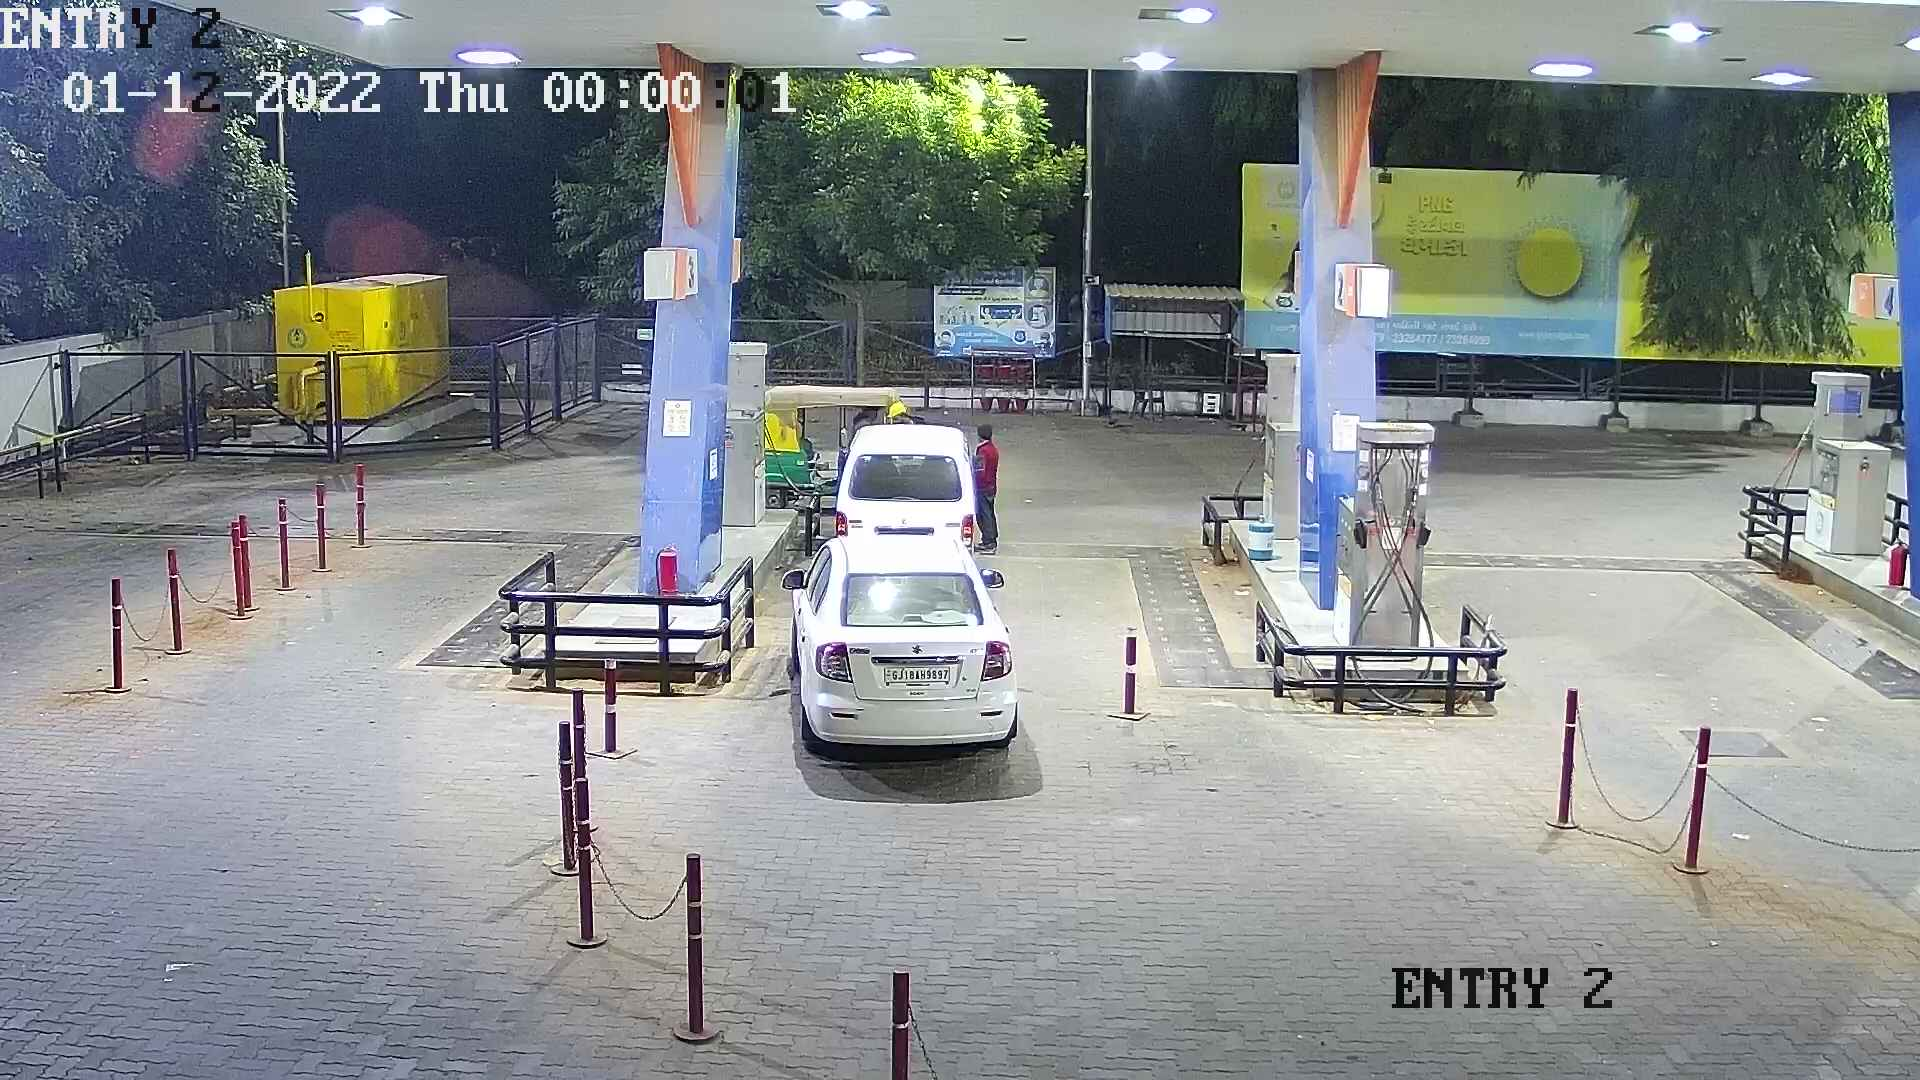Auto: (754, 375, 927, 518)
Car: (771, 518, 1040, 770), (822, 413, 990, 563)
Others: (872, 396, 920, 427)
